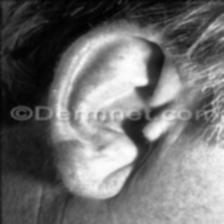Potentially Malignant Skin Tumors: (58, 164, 72, 180)
